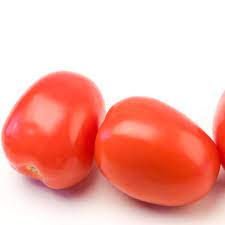tomato: (90, 98, 218, 205), (5, 67, 96, 197)
